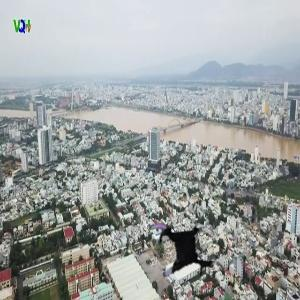drone: (140, 211, 223, 294)
